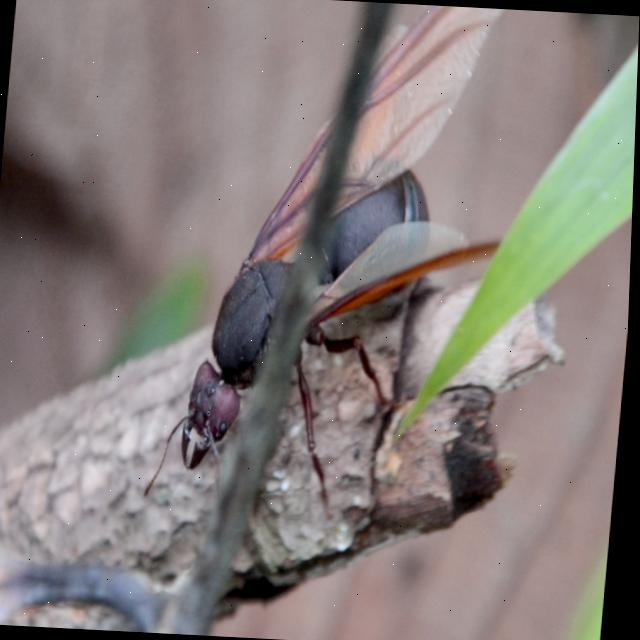Alive-Female-Alate: (145, 0, 537, 531)
